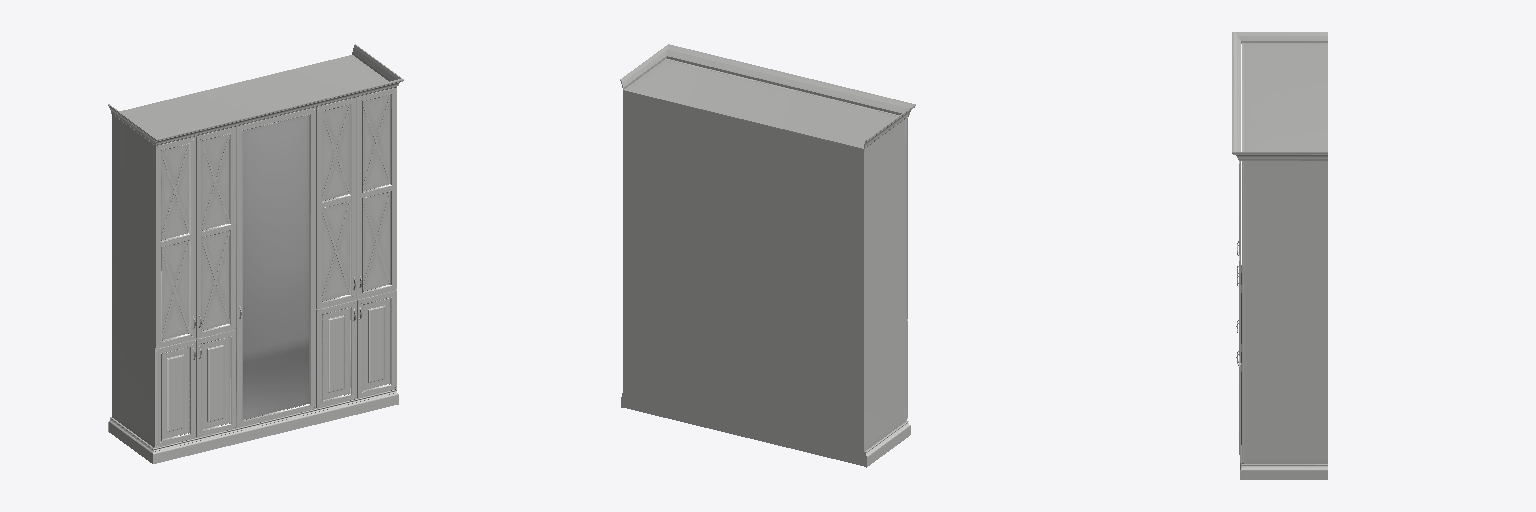
3 renders of one model, left to right at view 1: azimuth 30°, elevation 25°; view 2: azimuth 150°, elevation 25°; view 3: azimuth 270°, elevation 25°, orthographic.
Parts seen in each view (by area): view 1: solid_001, solid_003; view 2: solid_001; view 3: solid_001.
Boxes of the visible parts, x1,y1,x2,y2 form: solid_001: [108, 44, 403, 463]; solid_003: [236, 115, 308, 427]; solid_001: [620, 44, 915, 467]; solid_001: [1232, 32, 1327, 479].
Size of the model in its own units: 1.67 by 2.11 by 0.5657.
1 materials, 1 textured.